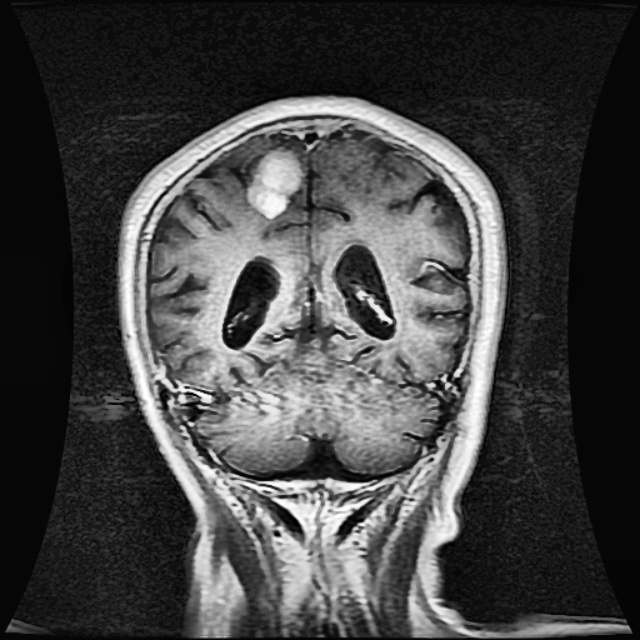Glioma: (249, 148, 303, 217)
